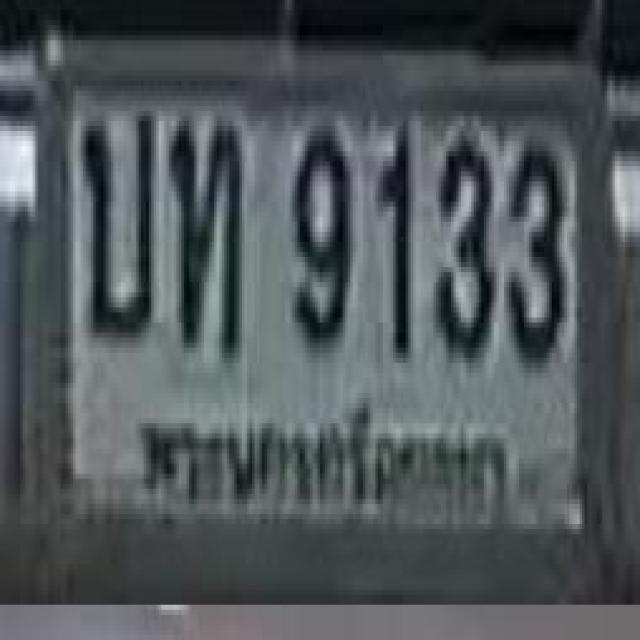license_plate: (33, 31, 618, 583)
